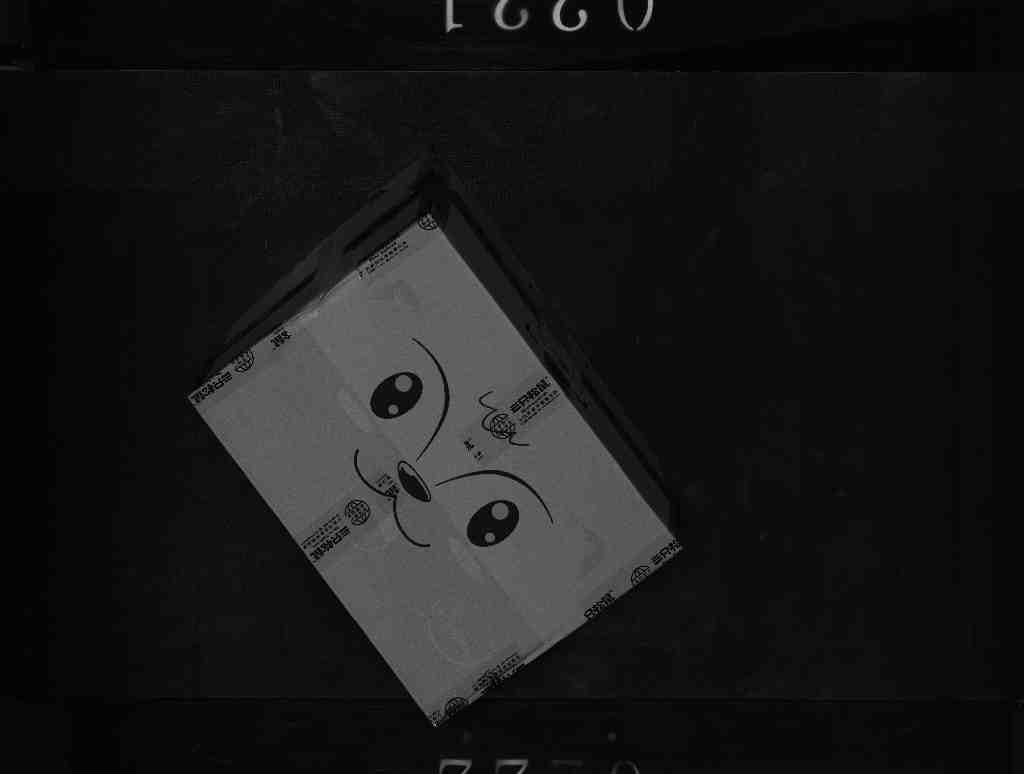box: (173, 183, 684, 723)
